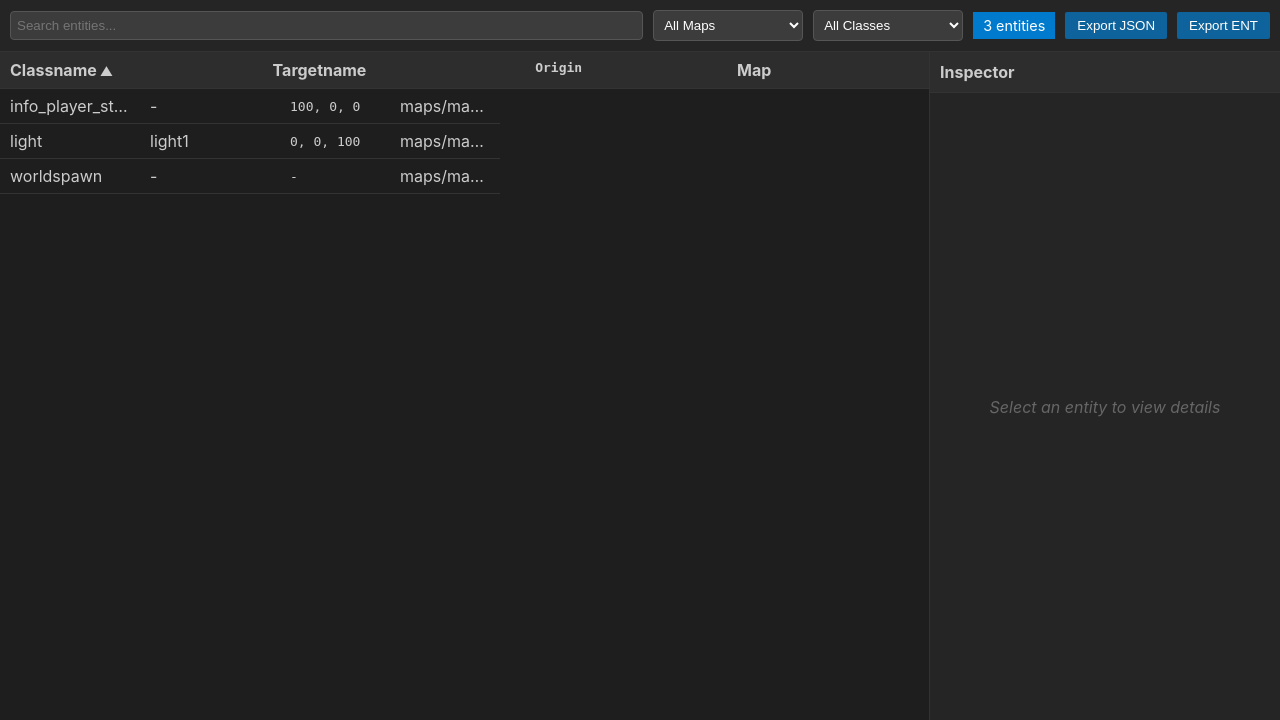
Test: EntityDatabase Component › selects an entity and shows inspector
The width and height of the screenshot is (1280, 720).
Step 1. Click the text "info_player_start" → (72, 106), box left=10, top=96, right=134, bottom=116
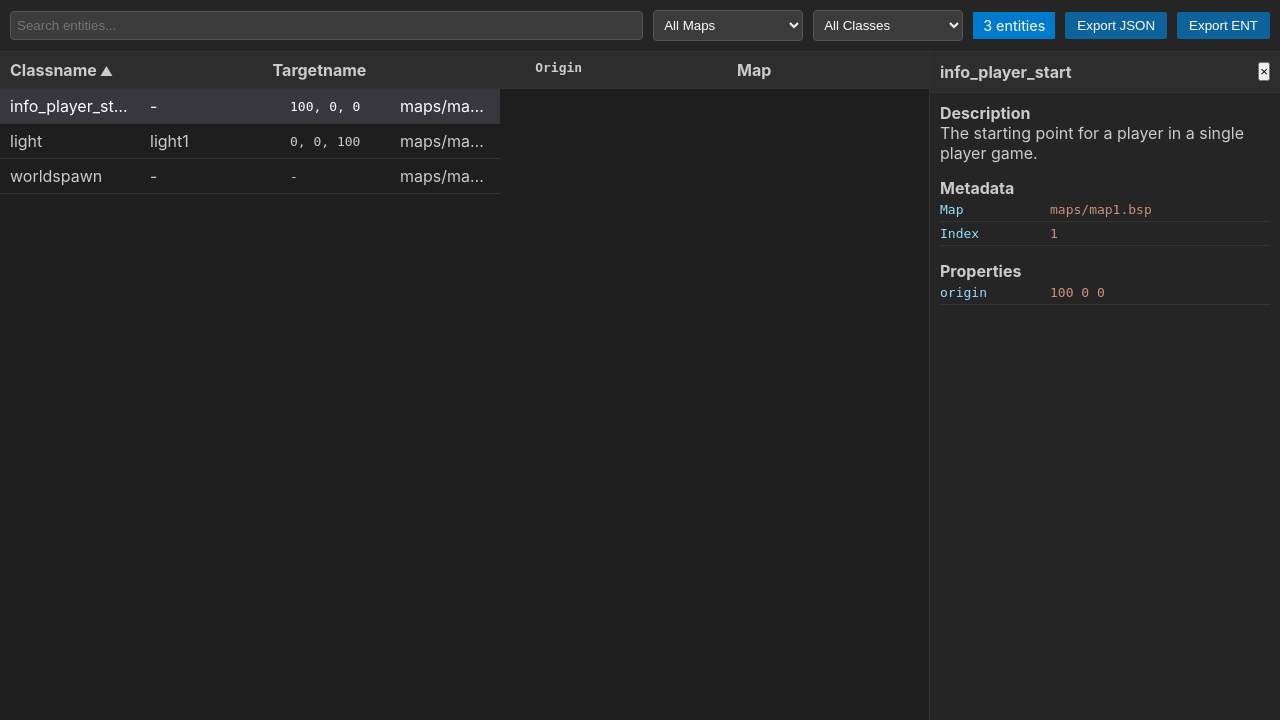
Expected: the text "100 0 0" is shown, left=1050, top=285, right=1105, bottom=300
